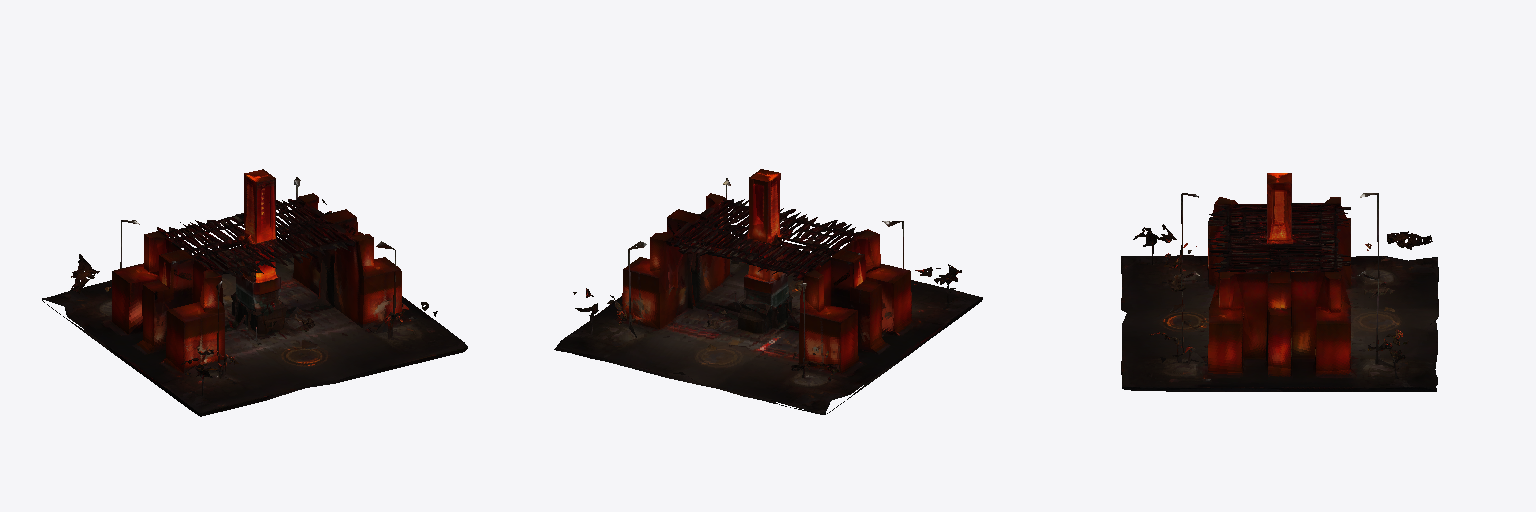
3 views of the same model, side by side, from view 1: azimuth 30°, elevation 25°; view 2: azimuth 150°, elevation 25°; view 3: azimuth 270°, elevation 25° (orthographic).
Visible parts, largest first — view 1: College_Campus_Gatewa_[number redacted]_texture; view 2: College_Campus_Gatewa_[number redacted]_texture; view 3: College_Campus_Gatewa_[number redacted]_texture.
Part boxes in pixels (x1,y1,x2,y2): College_Campus_Gatewa_[number redacted]_texture: (42, 169, 467, 416); College_Campus_Gatewa_[number redacted]_texture: (554, 169, 982, 414); College_Campus_Gatewa_[number redacted]_texture: (1121, 173, 1438, 391).
Bounding box in the file's own units: 1.99 × 1.11 × 2.01.
Materials: 1 (1 with a texture image).